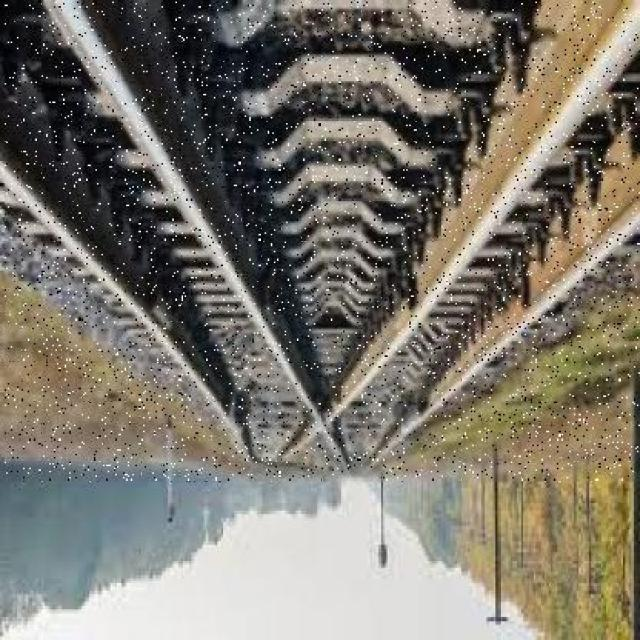rail: (5, 2, 640, 480)
